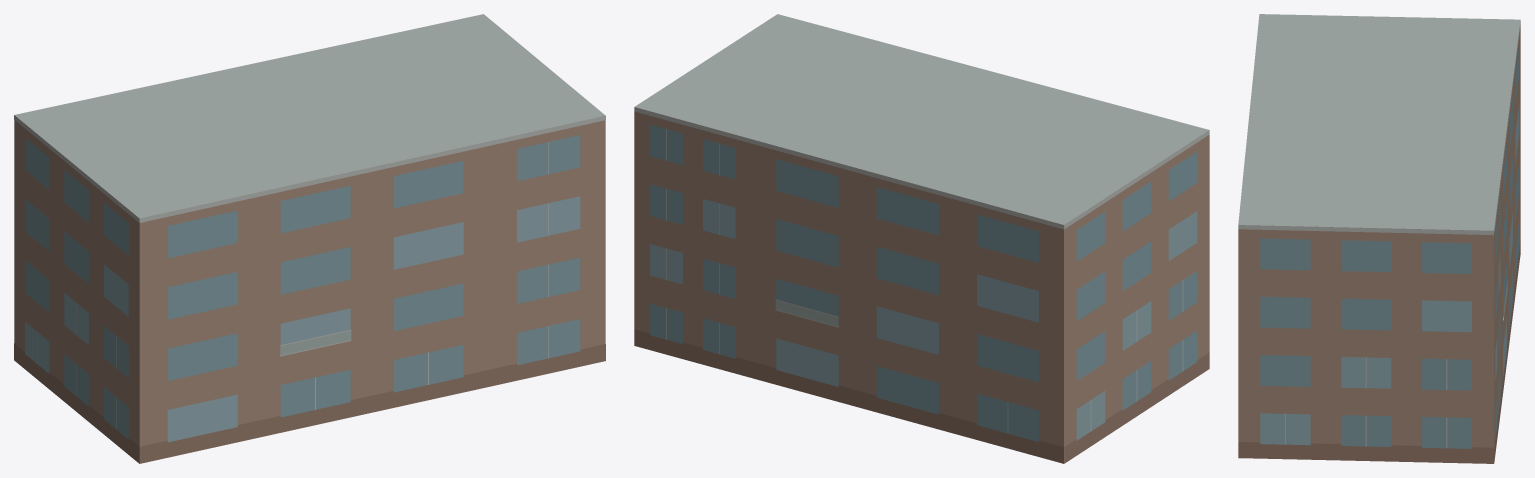
Rendered from survey-upis-32946144.glb.
The picture shows the model from 3 angles, left to right: view 1: azimuth 30°, elevation 25°; view 2: azimuth 150°, elevation 25°; view 3: azimuth 270°, elevation 25°; orthographic projection. The views are drawn at different scales.
Visible parts, largest first — view 1: survey-upis-32946144.tmp; view 2: survey-upis-32946144.tmp; view 3: survey-upis-32946144.tmp.
Boxes of the visible parts, left/top/right/bottom form: survey-upis-32946144.tmp: left=14, top=14, right=605, bottom=463; survey-upis-32946144.tmp: left=634, top=14, right=1209, bottom=463; survey-upis-32946144.tmp: left=1238, top=14, right=1520, bottom=463.
Size of the model in its own units: 26.34 by 13.2 by 14.5.
